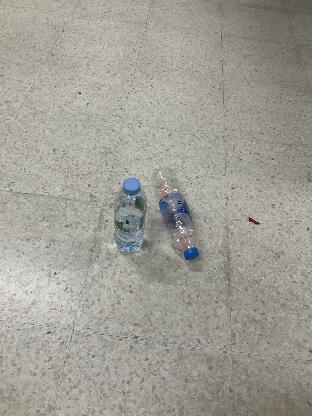Plastic Bottle: (151, 166, 199, 260), (111, 177, 147, 255)
